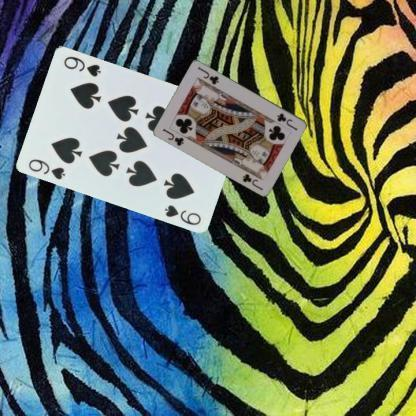9s: (26, 156, 67, 181)
Jc: (160, 125, 186, 147), (274, 110, 299, 132)
